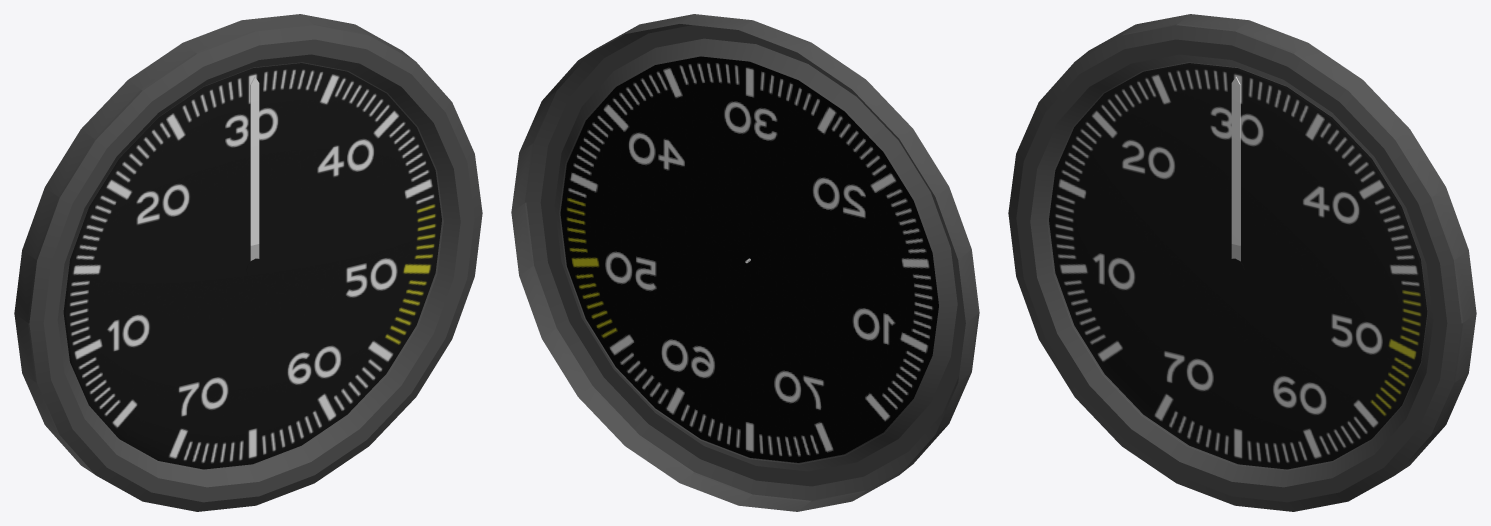
Rendered from Gauge_5-70.obj.
The picture shows the model from 3 angles, left to right: view 1: azimuth 30°, elevation 25°; view 2: azimuth 150°, elevation 25°; view 3: azimuth 330°, elevation 25°; orthographic projection.
Parts seen in each view (by area): view 1: Face, Rim, NeedleMain; view 2: Face, Rim; view 3: Face, Rim, NeedleMain.
Boxes of the visible parts, left/top/right/bottom form: Face: left=63, top=63, right=441, bottom=469; Rim: left=14, top=14, right=482, bottom=511; NeedleMain: left=250, top=77, right=259, bottom=245; Face: left=560, top=56, right=938, bottom=462; Rim: left=511, top=14, right=979, bottom=511; Face: left=1049, top=63, right=1427, bottom=469; Rim: left=1008, top=14, right=1476, bottom=511; NeedleMain: left=1231, top=77, right=1240, bottom=245.
Size of the model in its own units: 0.0822 by 0.0822 by 0.00794.
